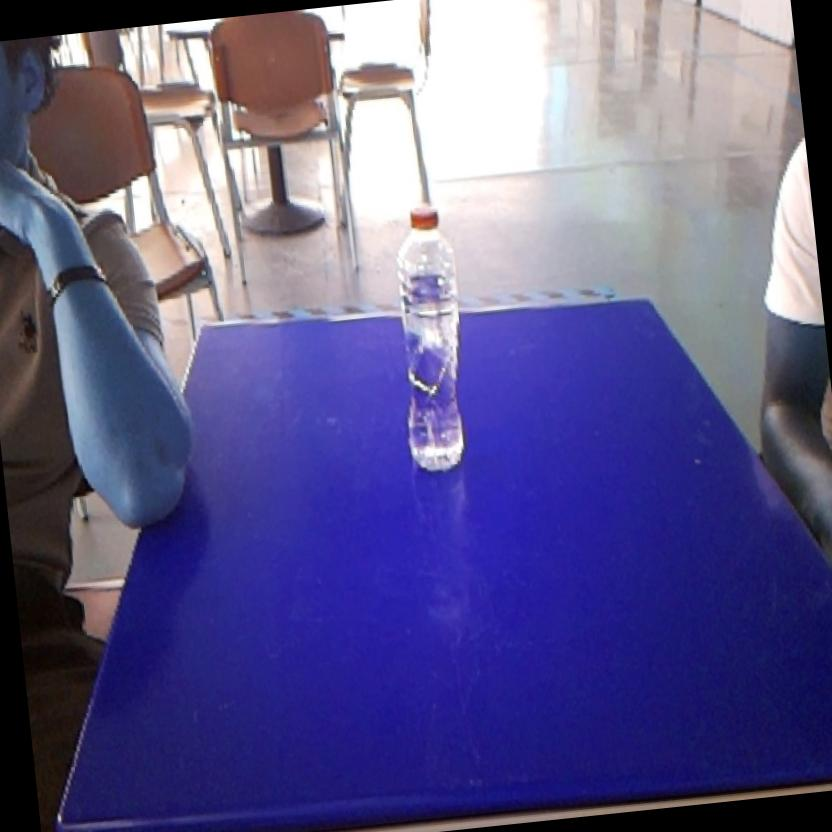no_label: (375, 189, 486, 483)
